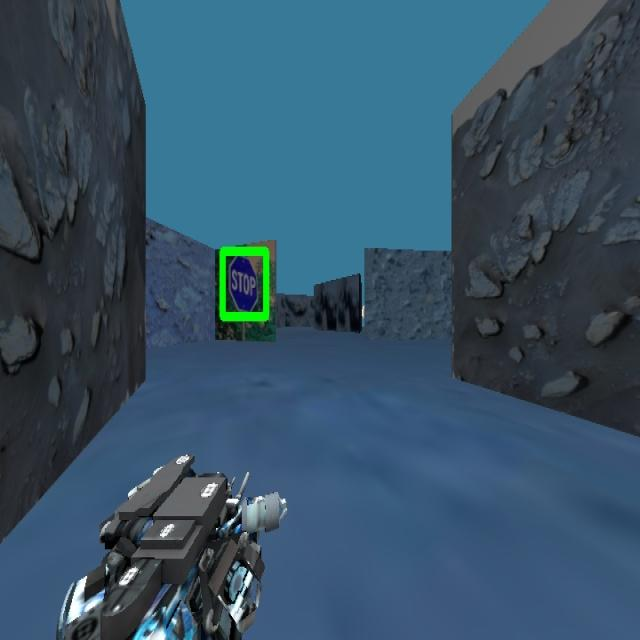Stop_Sign: (218, 244, 270, 323)
